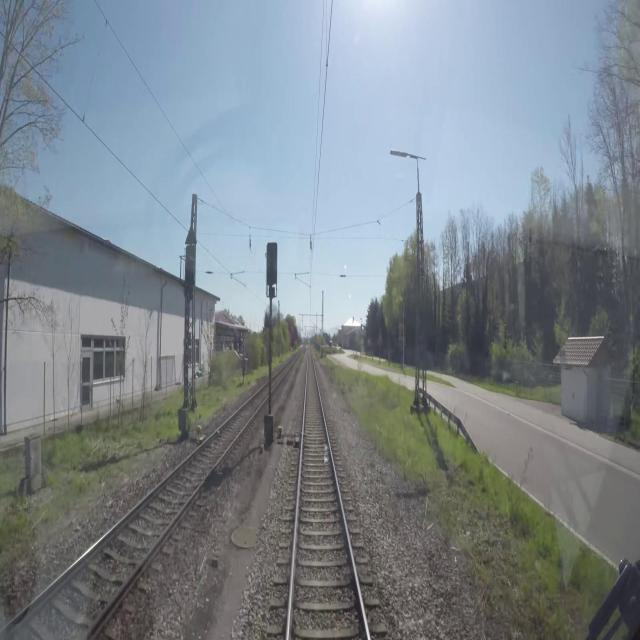rail-track: (0, 385, 268, 639), (289, 355, 366, 639)
